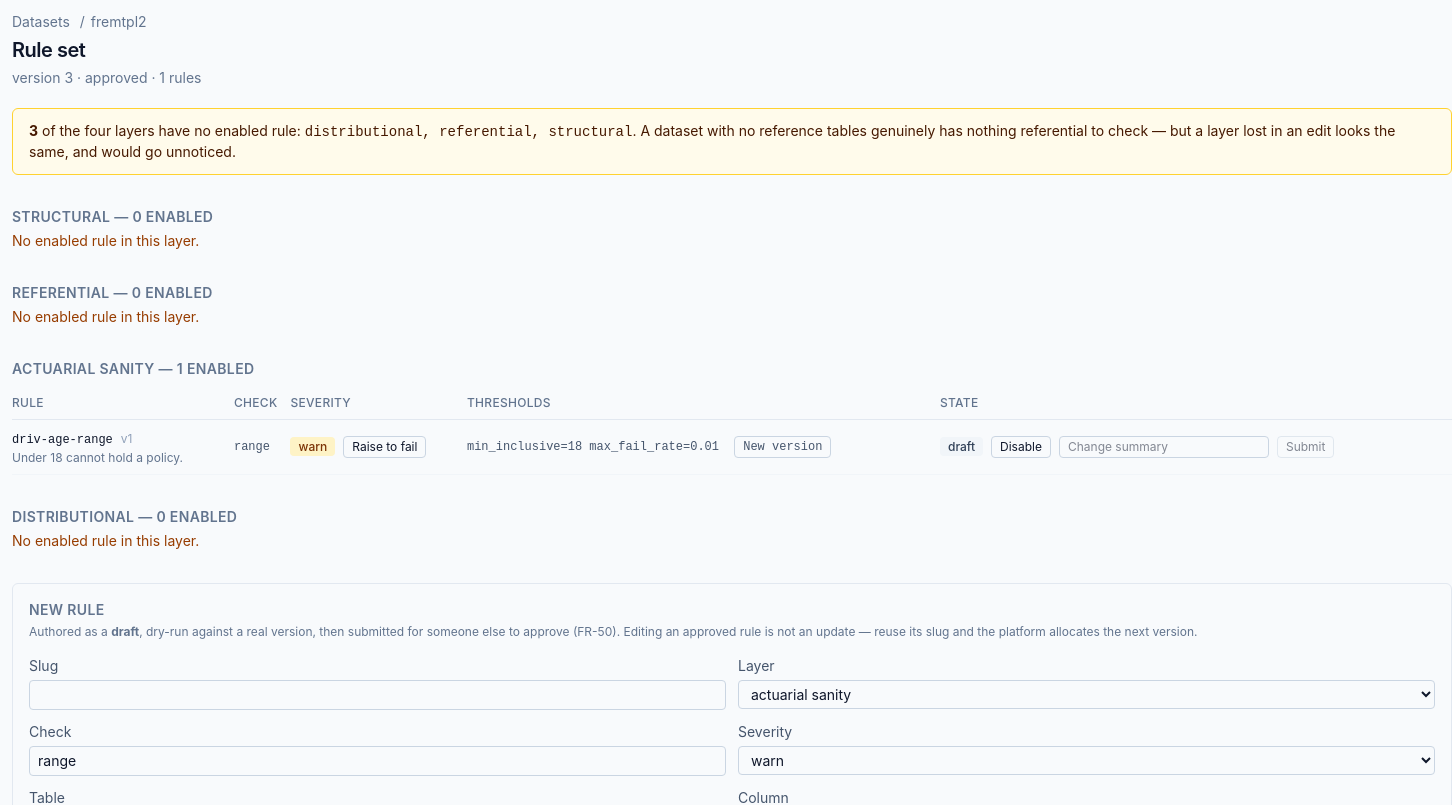
the rule set view › says the dry run did not execute when the evidence is incomplete
The image size is (1452, 805).
Step 1. Type "x" into the field named "Change summary for driv-age-range" → coordinates (1164, 447), box top-left (1059, 436), bottom-right (1269, 458)
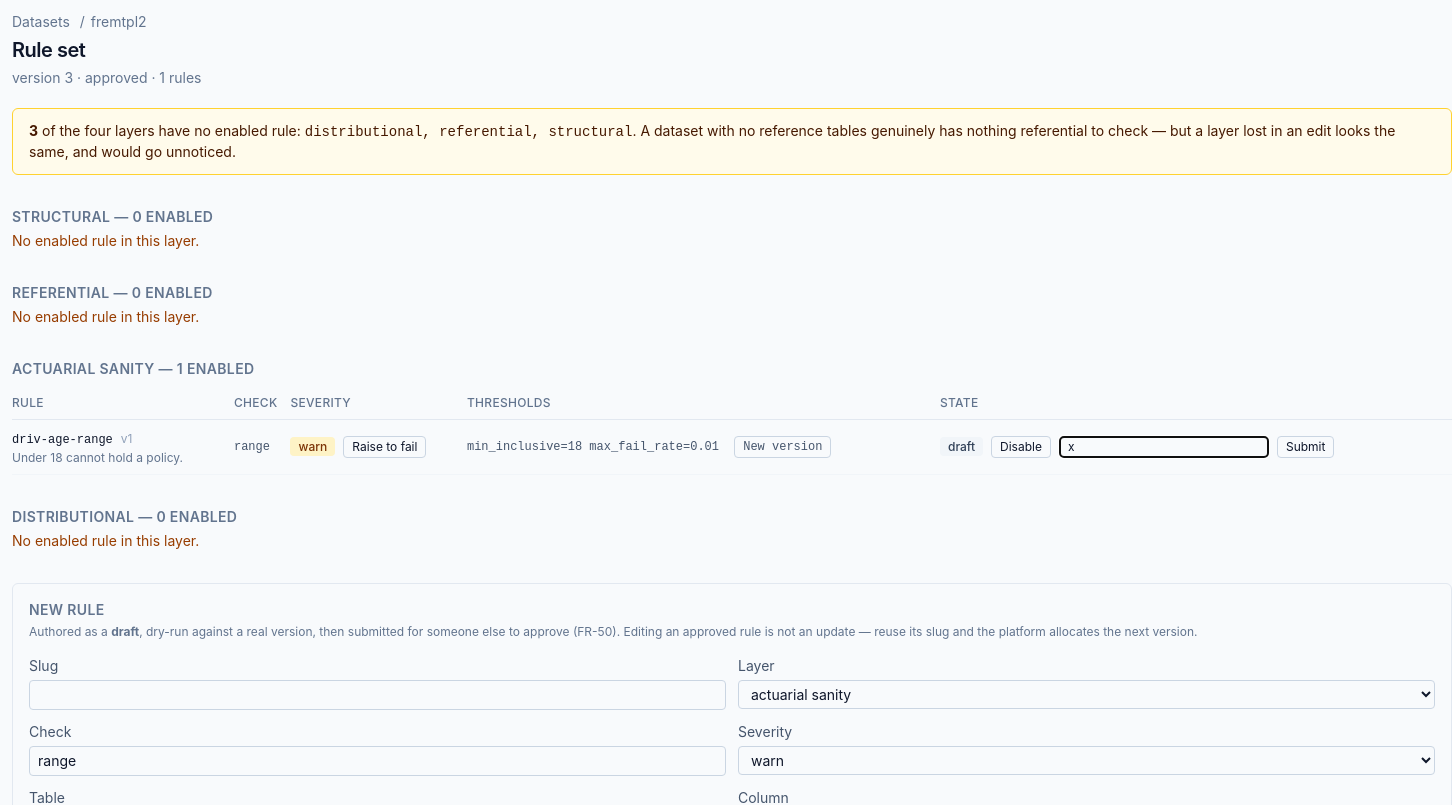
Step 2. Click the button "Submit" → coordinates (1306, 447), box top-left (1277, 436), bottom-right (1334, 458)
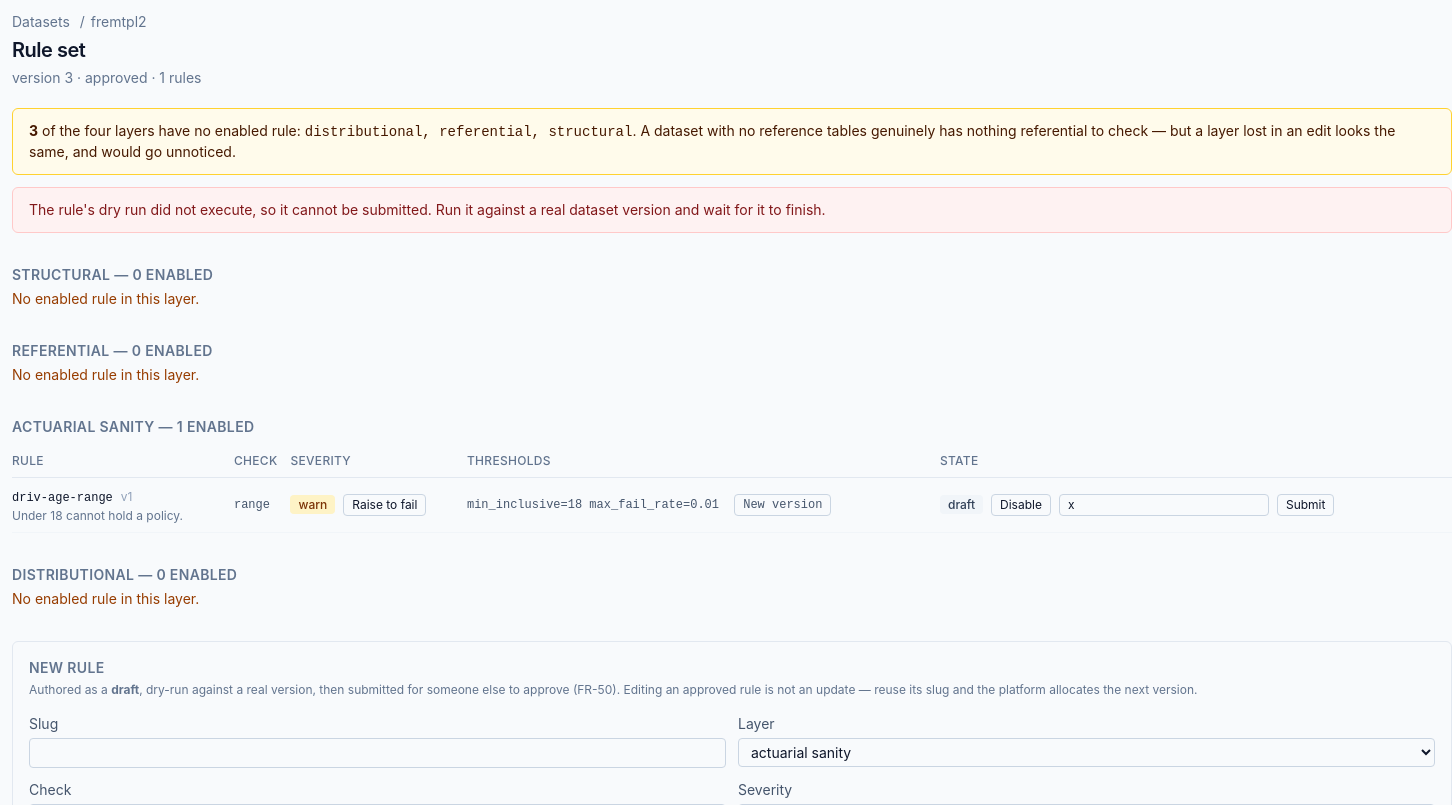
Check: the message shows "dry run did not execute", box top-left (29, 201), bottom-right (826, 218)
